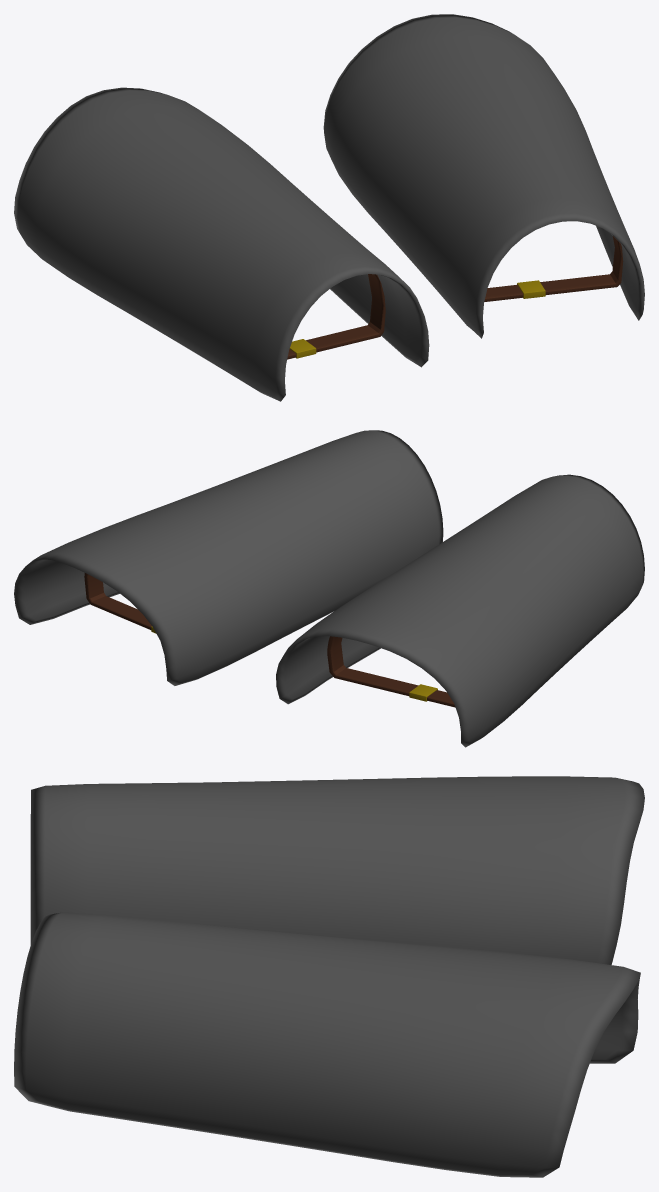
The model's file is Bracers001.FBX.
The picture shows the model from 3 angles, top to bottom: view 1: azimuth 30°, elevation 25°; view 2: azimuth 150°, elevation 25°; view 3: azimuth 270°, elevation 25°; orthographic projection. The views are drawn at different scales.
Visible parts, largest first — view 1: BracersRight, BracersRight001, Strap004, Strap; view 2: BracersRight001, BracersRight, Strap002, Strap003; view 3: BracersRight001, BracersRight.
Boxes of the visible parts, <box> form: BracersRight: <box>14,87,429,401</box>; BracersRight001: <box>323,14,644,338</box>; Strap004: <box>484,236,623,301</box>; Strap: <box>287,274,385,359</box>; BracersRight001: <box>14,430,443,685</box>; BracersRight: <box>276,474,644,747</box>; Strap002: <box>327,636,455,707</box>; Strap003: <box>84,573,151,629</box>; BracersRight001: <box>14,912,640,1177</box>; BracersRight: <box>30,776,644,964</box>.
Size of the model in its own units: 6.96 by 1.53 by 5.97.
